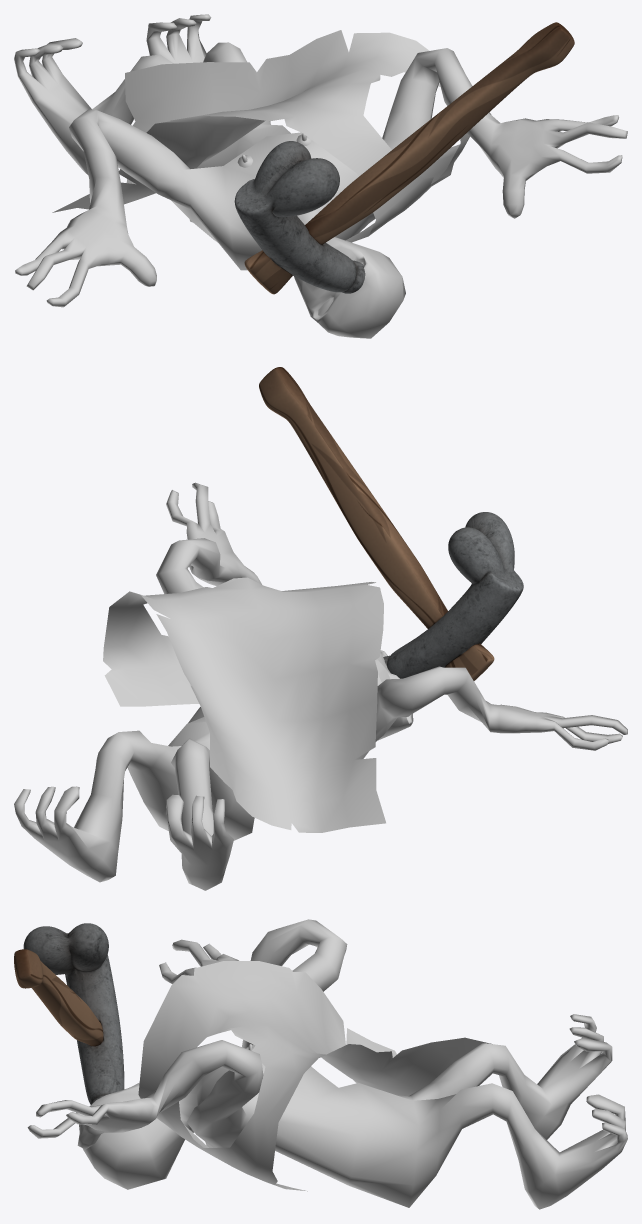
The model's file is SM_ClientDead_003.FBX.
3 views of the same model, one above another, from view 1: azimuth 30°, elevation 25°; view 2: azimuth 150°, elevation 25°; view 3: azimuth 270°, elevation 25° (orthographic). The views are drawn at different scales.
Parts seen in each view (by area): view 1: SM_ClientDead_003; view 2: SM_ClientDead_003; view 3: SM_ClientDead_003.
Boxes of the visible parts, left/top/right/bottom form: SM_ClientDead_003: left=14, top=14, right=627, bottom=338; SM_ClientDead_003: left=14, top=367, right=627, bottom=890; SM_ClientDead_003: left=14, top=919, right=627, bottom=1209.
Bounding box in the file's own units: 2021 × 1152 × 2118.
